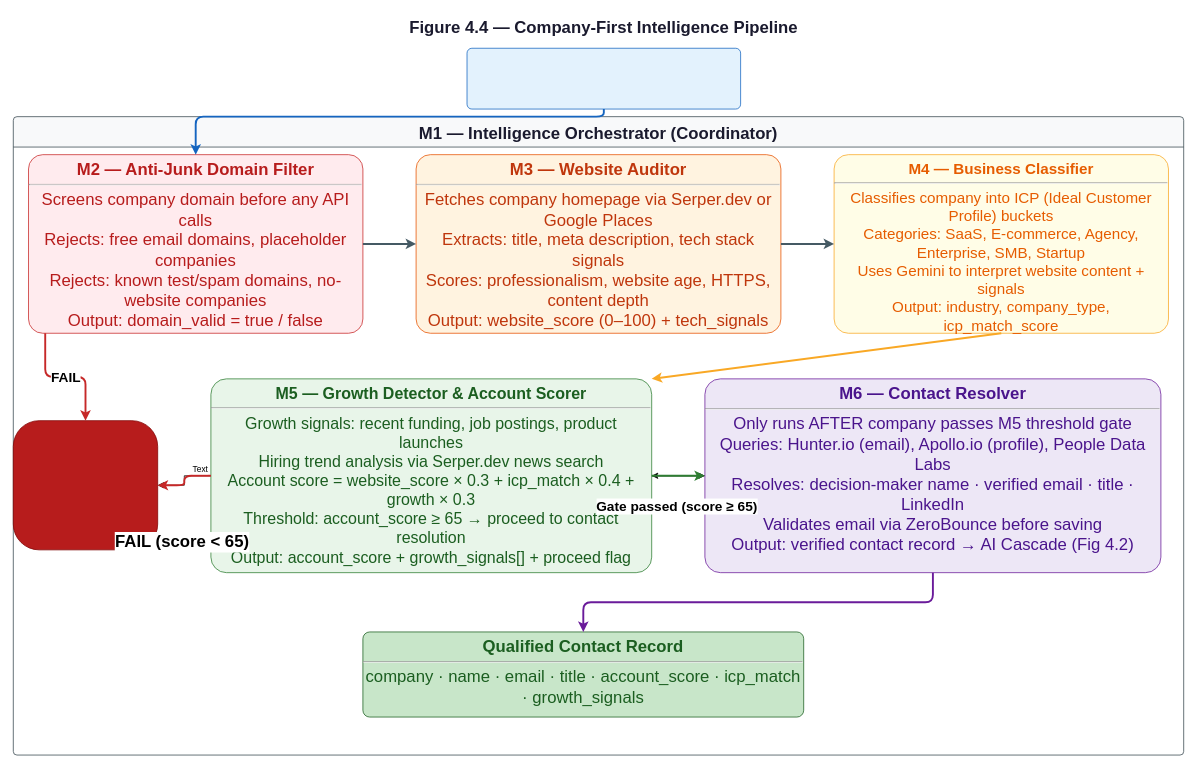
Some shapes in this 1202 by 768 pixel diagram are drawn without their labels. Each missing label, with the centre of its shape:
"Collection Query ‘Find SaaS CTOs in Dubai’" goes at [603,78].
"Company REJECTED (score < 65 or domain invalid)" goes at [85,485].
